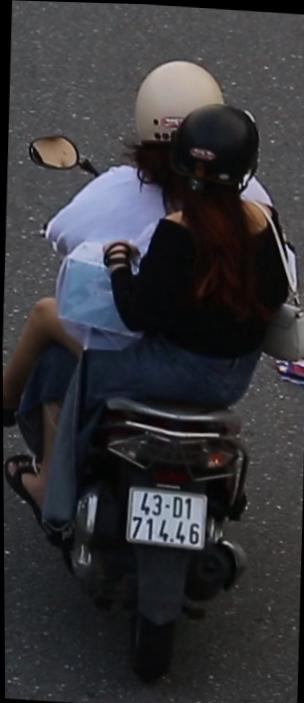LP: (121, 479, 211, 556)
helmet: (127, 51, 228, 168)
